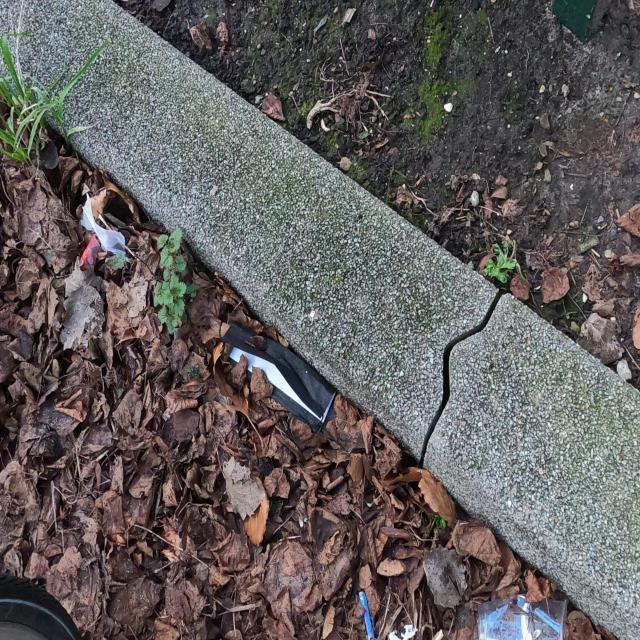Mask: (218, 307, 337, 445)
Paper: (80, 192, 126, 256)
Plastic: (80, 233, 102, 272)
